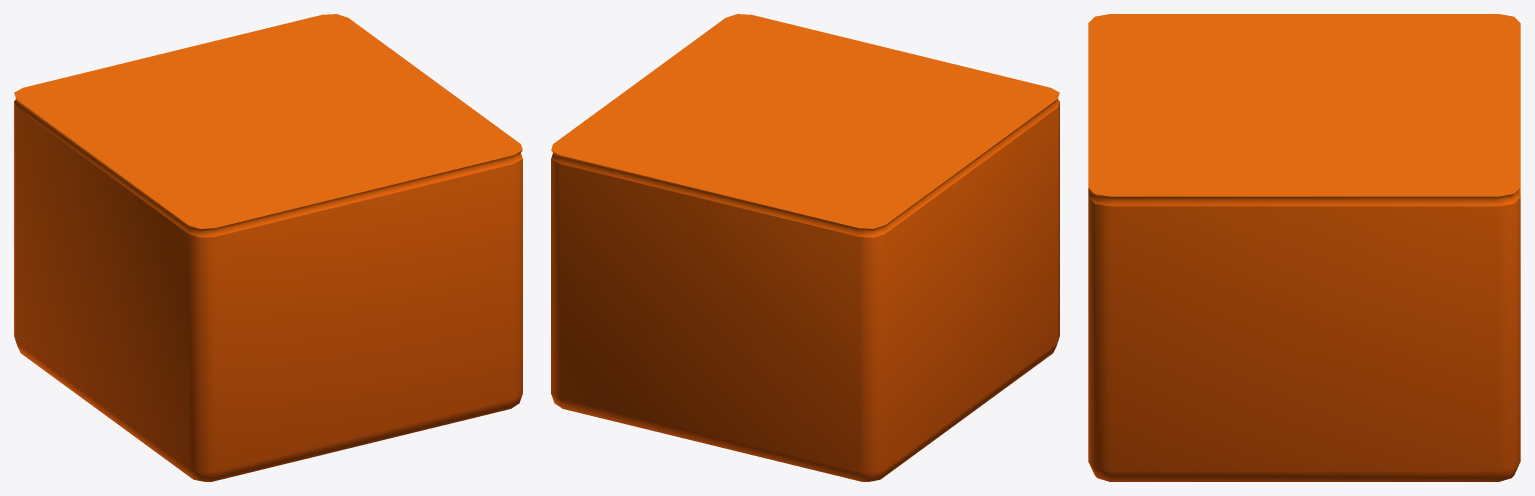
File: 3D_Tile_Socket_Ground_02.glb
3 renders of one model, left to right at view 1: azimuth 30°, elevation 25°; view 2: azimuth 150°, elevation 25°; view 3: azimuth 270°, elevation 25°, orthographic. The views are drawn at different scales.
Parts seen in each view (by area): view 1: 3D_Tile_Socket_Ground_02; view 2: 3D_Tile_Socket_Ground_02; view 3: 3D_Tile_Socket_Ground_02.
Boxes of the visible parts, x1,y1,x2,y2 form: 3D_Tile_Socket_Ground_02: (14, 14, 522, 481); 3D_Tile_Socket_Ground_02: (551, 14, 1059, 481); 3D_Tile_Socket_Ground_02: (1088, 14, 1520, 481).
Size of the model in its own units: 2 by 1.5 by 2.
1 material, 1 textured.
